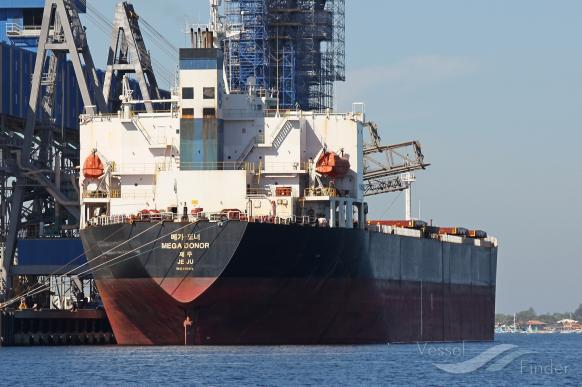OCR: (158, 228, 213, 274)
